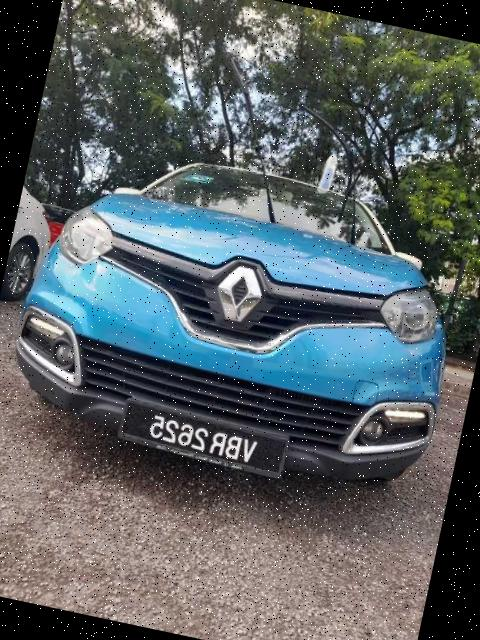License_Plate: (115, 395, 294, 481)
car: (1, 127, 480, 510)
